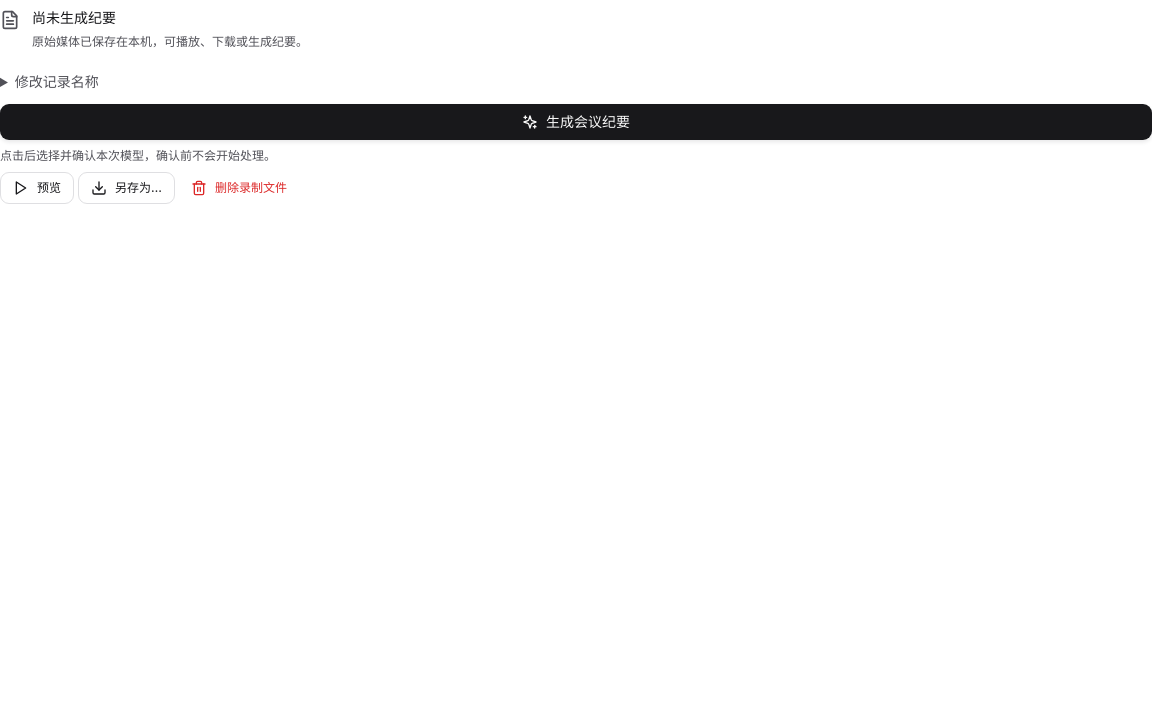
Test: keeps failed confirmation available for retry and shows the storage error
Click the button "生成会议纪要". click: (576, 122)
box: x1=0 y1=104 x2=1151 y2=140
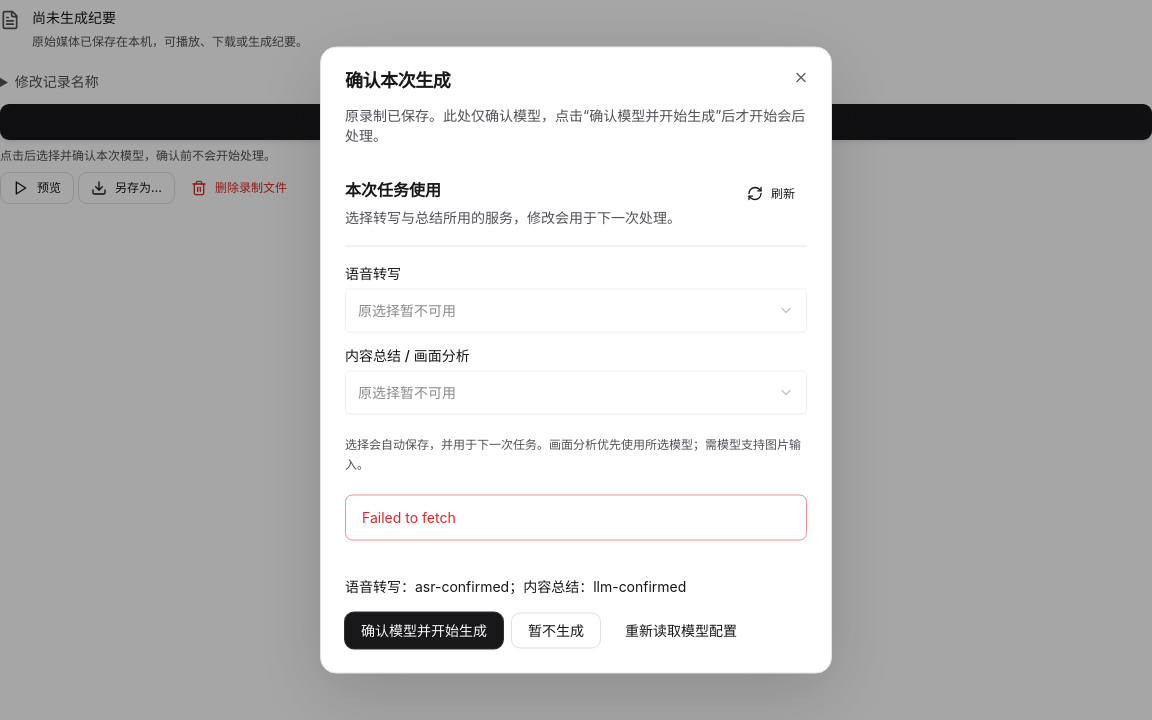
Click the button "确认模型并开始生成". click: (424, 630)
box: x1=345 y1=612 x2=503 y2=648
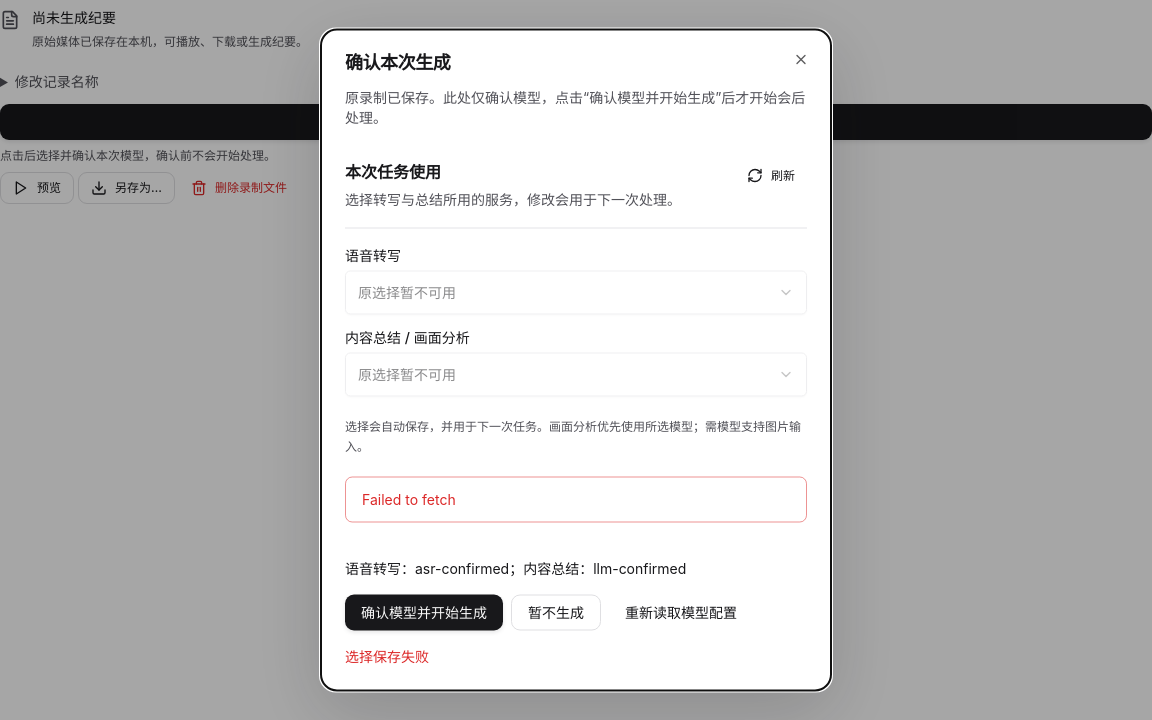
Result: the button "确认模型并开始生成" is enabled at x1=345 y1=594 x2=503 y2=630
Result: the text "选择保存失败" is shown at x1=345 y1=648 x2=429 y2=664
